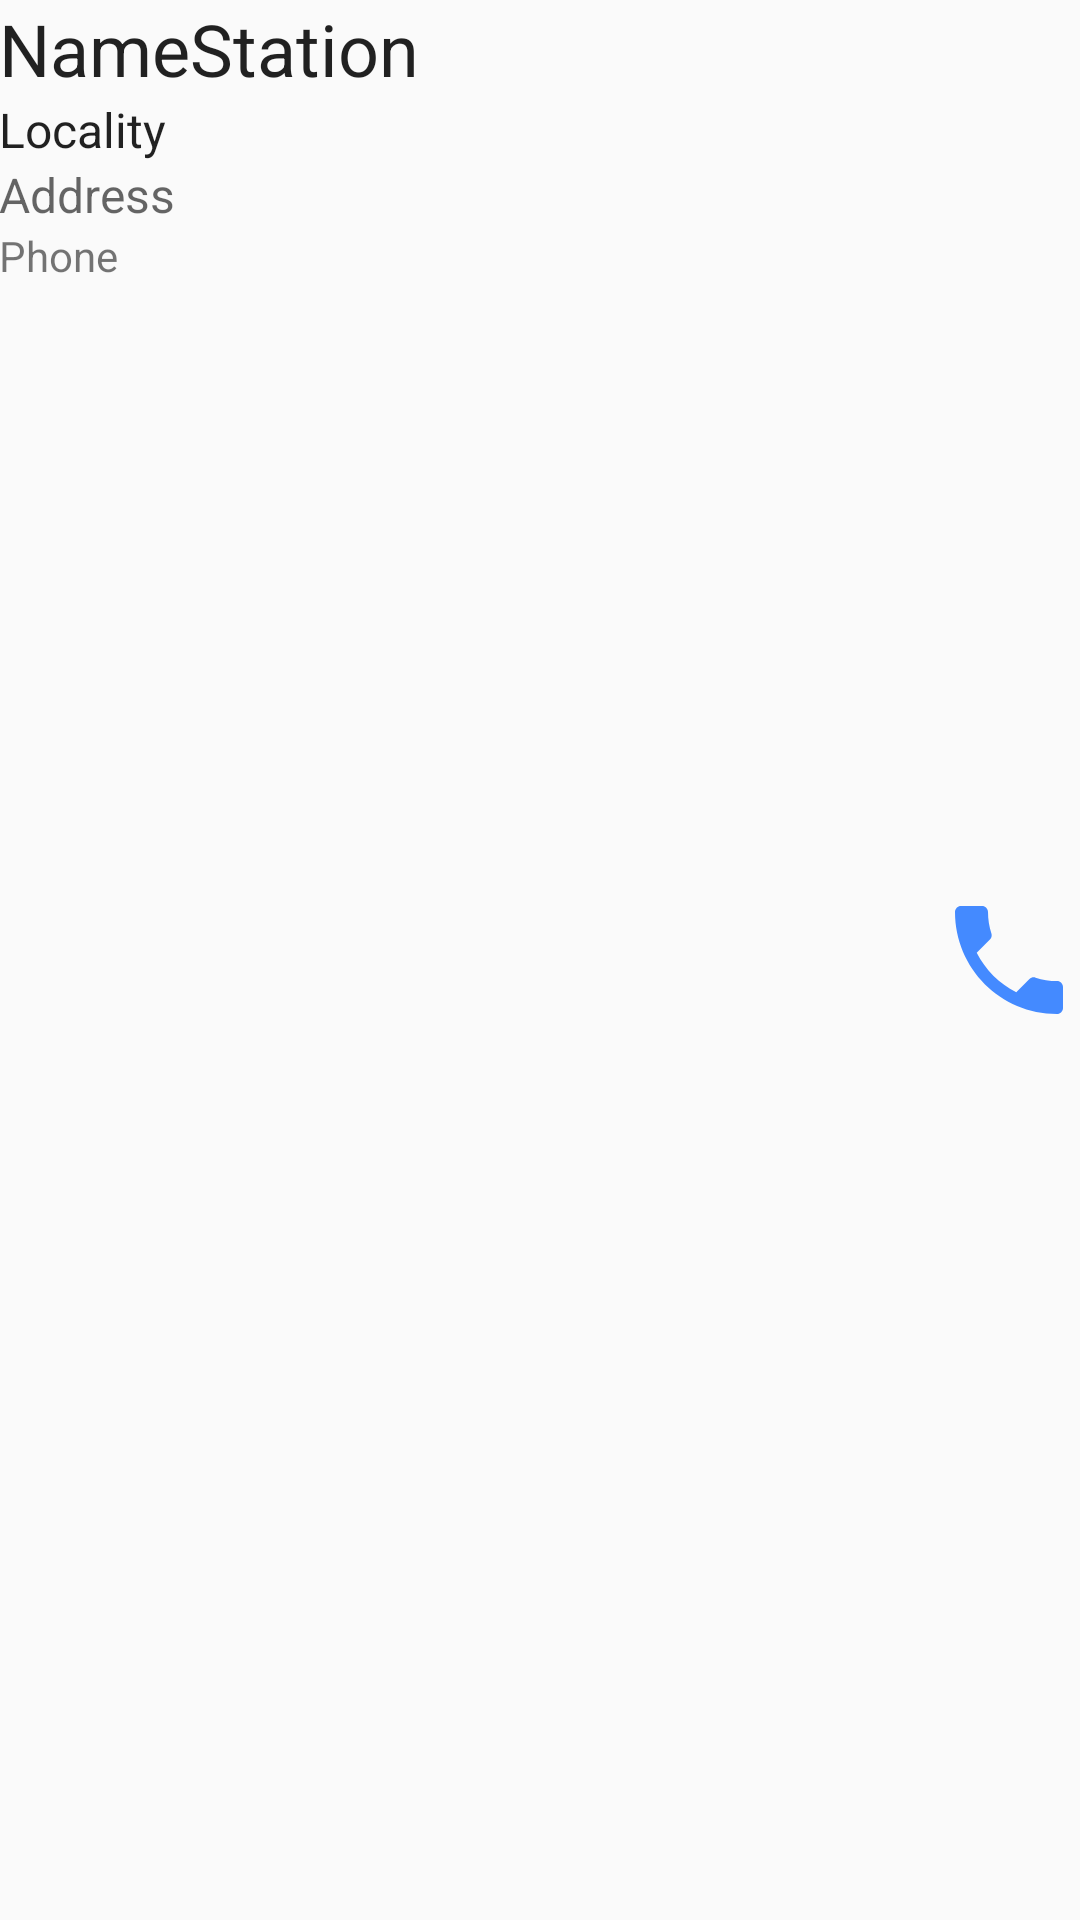

Icon bounding boxes for this 1080×1920 phone screenshot, format (x1, y1, x2, y2):
call: (955, 906, 1063, 1014)
